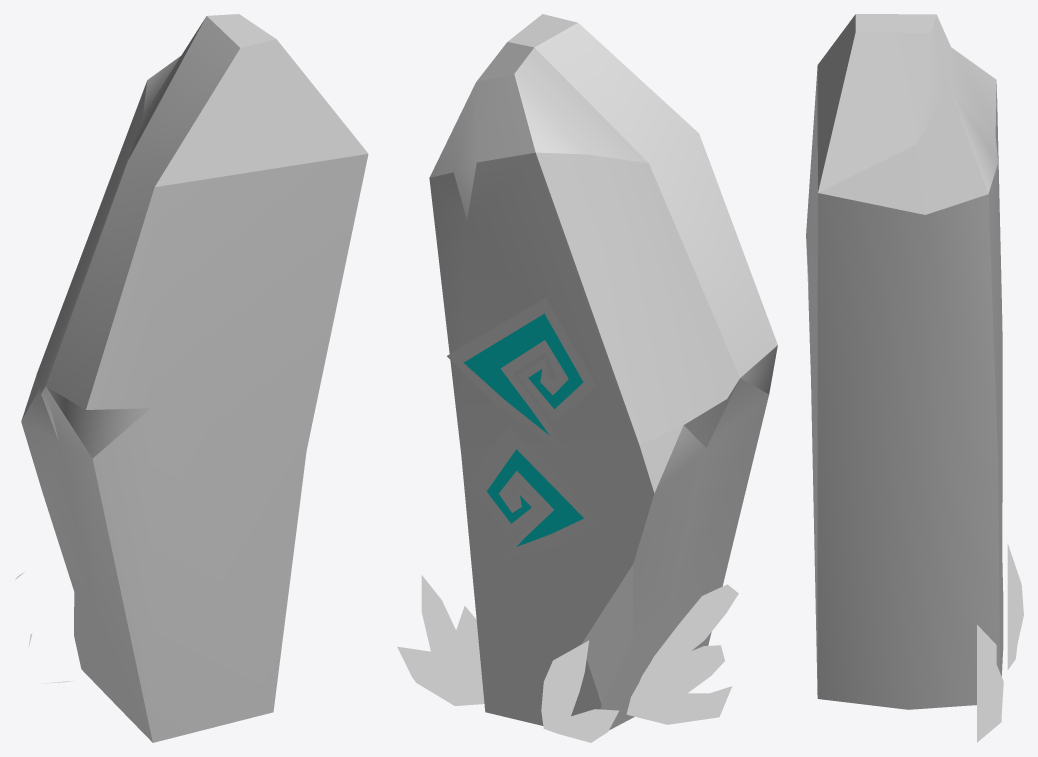
The model's file is obstacle-rune_stone_H2.glb.
3 renders of one model, left to right at view 1: azimuth 30°, elevation 25°; view 2: azimuth 150°, elevation 25°; view 3: azimuth 270°, elevation 25°, orthographic. The views are drawn at different scales.
Parts seen in each view (by area): view 1: obstacle-runestone_H2_vertex_color_baker.001; view 2: obstacle-runestone_H2_vertex_color_baker.001; view 3: obstacle-runestone_H2_vertex_color_baker.001.
Part boxes in pixels (x1,y1,x2,y2): obstacle-runestone_H2_vertex_color_baker.001: (15, 14, 368, 742); obstacle-runestone_H2_vertex_color_baker.001: (397, 14, 777, 742); obstacle-runestone_H2_vertex_color_baker.001: (806, 14, 1023, 742).
Bounding box in the file's own units: 2.26 × 4.52 × 1.29.
